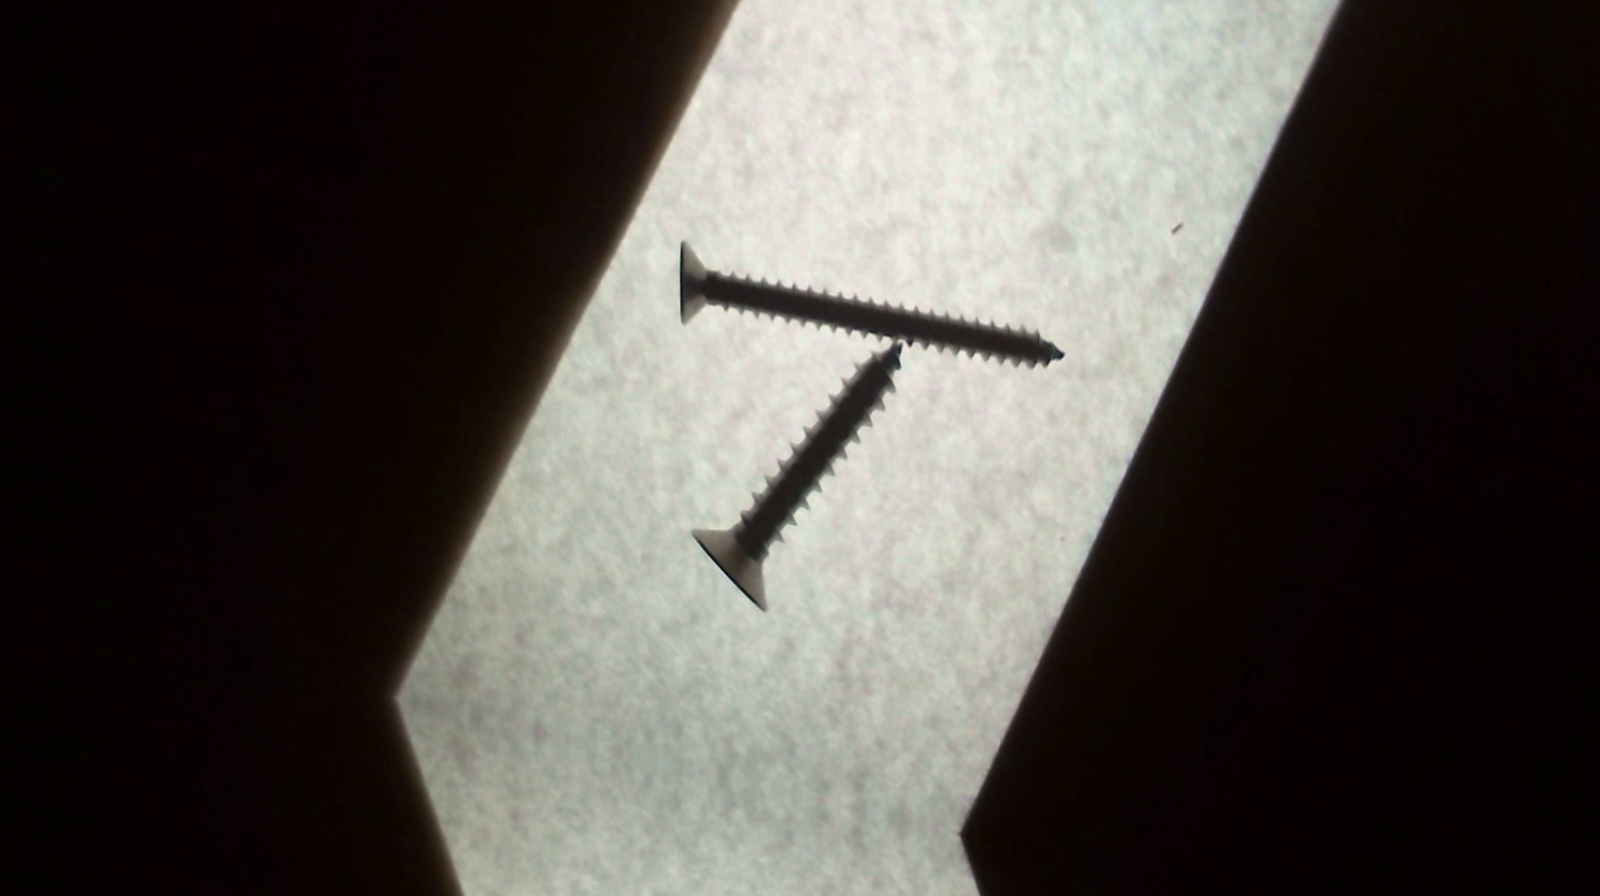S001: (687, 287, 904, 651)
S002: (663, 228, 1076, 422)
